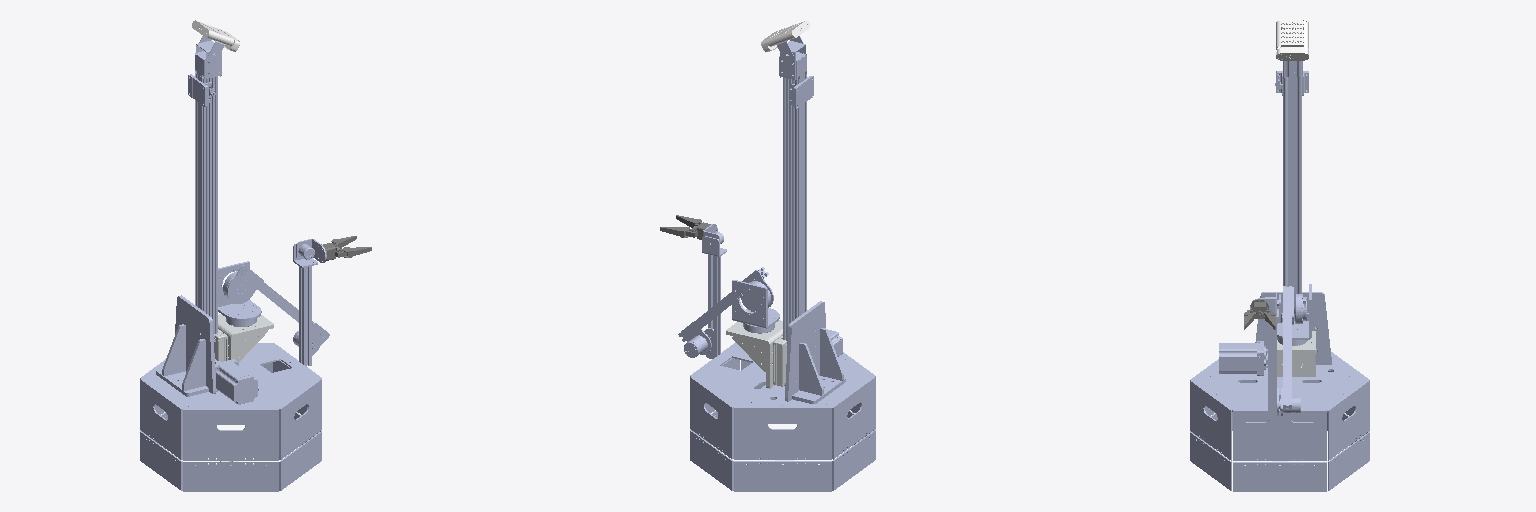
URDF robot description (xm):
<?xml version="1.0" encoding="utf-8"?>
<!-- This URDF was automatically created by SolidWorks to URDF Exporter! Originally created by [author] ([email redacted]) 
     Commit Version: 1.6.0-4-g7f85cfe  Build Version: 1.6.7995.38578
     For more information, please see http://wiki.ros.org/sw_urdf_exporter -->
<robot
  name="xm">
  <link
    name="base_footprint">
    <inertial>
      <origin
        xyz="-5.01446918828583E-18 7.77832204392716E-17 0.0125"
        rpy="0 0 0" />
      <mass
        value="0.0580821353308894" />
      <inertia
        ixx="1.59838183265745E-05"
        ixy="2.02872876666417E-21"
        ixz="4.11954387621188E-21"
        iyy="1.59838183265745E-05"
        iyz="1.27122246921669E-21"
        izz="2.5917414222848E-05" />
    </inertial>
    <visual>
      <origin
        xyz="0 0 0"
        rpy="0 0 0" />
      <geometry>
        <mesh
          filename="package://xm/meshes/base_footprint.STL" />
      </geometry>
      <material
        name="">
        <color
          rgba="1 1 1 1" />
      </material>
    </visual>
    <collision>
      <origin
        xyz="0 0 0"
        rpy="0 0 0" />
      <geometry>
        <mesh
          filename="package://xm/meshes/base_footprint.STL" />
      </geometry>
    </collision>
  </link>
  <link
    name="base_link">
    <inertial>
      <origin
        xyz="-0.0502288881046541 0.00492664264562058 0.400256816751675"
        rpy="0 0 0" />
      <mass
        value="20.0261426904633" />
      <inertia
        ixx="0.531598323022311"
        ixy="-2.21273094270985E-05"
        ixz="-0.000168492824454645"
        iyy="0.519545706931973"
        iyz="-5.41792927932619E-05"
        izz="0.0907833726166085" />
    </inertial>
    <visual>
      <origin
        xyz="0 0 0"
        rpy="0 0 0" />
      <geometry>
        <mesh
          filename="package://xm/meshes/base_link.STL" />
      </geometry>
      <material
        name="">
        <color
          rgba="0.792156862745098 0.819607843137255 0.933333333333333 1" />
      </material>
    </visual>
    <collision>
      <origin
        xyz="0 0 0"
        rpy="0 0 0" />
      <geometry>
        <mesh
          filename="package://xm/meshes/base_link.STL" />
      </geometry>
    </collision>
  </link>
  <joint
    name="Joint_base"
    type="fixed">
    <origin
      xyz="0 0 0.1072"
      rpy="0 0 0" />
    <parent
      link="base_footprint" />
    <child
      link="base_link" />
    <axis
      xyz="0 0 0" />
  </joint>
  <link
    name="camera_link">
    <inertial>
      <origin
        xyz="-0.000612844285381109 1.67576328436239E-05 0.0108070192474548"
        rpy="0 0 0" />
      <mass
        value="0.139638644702182" />
      <inertia
        ixx="0.00015555281895426"
        ixy="1.05406882620552E-07"
        ixz="5.24524898045809E-06"
        iyy="0.00017054587501445"
        iyz="-2.84754918707842E-08"
        izz="0.000297813562726458" />
    </inertial>
    <visual>
      <origin
        xyz="0 0 0"
        rpy="0 0 0" />
      <geometry>
        <mesh
          filename="package://xm/meshes/camera_link.STL" />
      </geometry>
      <material
        name="">
        <color
          rgba="1 1 1 1" />
      </material>
    </visual>
    <collision>
      <origin
        xyz="0 0 0"
        rpy="0 0 0" />
      <geometry>
        <mesh
          filename="package://xm/meshes/camera_link.STL" />
      </geometry>
    </collision>
  </link>
  <joint
    name="camera_joint"
    type="fixed">
    <origin
      xyz="-0.0373055965780228 0.0391273224499892 1.36470246732984"
      rpy="0 0.523598775598302 0" />
    <parent
      link="base_link" />
    <child
      link="camera_link" />
    <axis
      xyz="0 0 0" />
  </joint>
  <link
    name="lift_link">
    <inertial>
      <origin
        xyz="0.0166881585763502 -2.14483490747763E-05 -0.017388941776597"
        rpy="0 0 0" />
      <mass
        value="2.62357037094402" />
      <inertia
        ixx="0.00900095290508912"
        ixy="-4.07456110162792E-07"
        ixz="0.00197504590341094"
        iyy="0.00823577637027449"
        iyz="-2.56234743657449E-09"
        izz="0.00769626318722966" />
    </inertial>
    <visual>
      <origin
        xyz="0 0 0"
        rpy="0 0 0" />
      <geometry>
        <mesh
          filename="package://xm/meshes/lift_link.STL" />
      </geometry>
      <material
        name="">
        <color
          rgba="0.898039215686275 0.917647058823529 0.929411764705882 1" />
      </material>
    </visual>
    <collision>
      <origin
        xyz="0 0 0"
        rpy="0 0 0" />
      <geometry>
        <mesh
          filename="package://xm/meshes/lift_link.STL" />
      </geometry>
    </collision>
  </link>
  <joint
    name="lift_joint"
    type="prismatic">
    <origin
      xyz="-0.019992 0.04 0.6925"
      rpy="3.1416 0 0" />
    <parent
      link="base_link" />
    <child
      link="lift_link" />
    <axis
      xyz="0 0 1" />
    <limit
      lower="0.3"
      upper="0.5"
      effort="5"
      velocity="5" />
    <safety_controller
      soft_upper_limit="0.475"
      soft_lower_limit="0.29"
      k_position="4"
      k_velocity="4" />
  </joint>
  <link
    name="arm_link_0">
    <inertial>
      <origin
        xyz="2.46317414215047E-05 0.0195657468292649 0.0122309141982322"
        rpy="0 0 0" />
      <mass
        value="0.700406169082528" />
      <inertia
        ixx="0.00177795145639511"
        ixy="3.92262478514961E-07"
        ixz="-3.77926981561976E-08"
        iyy="0.00176018521561224"
        iyz="-0.000454649584082416"
        izz="0.00155125228070842" />
    </inertial>
    <visual>
      <origin
        xyz="0 0 0"
        rpy="0 0 0" />
      <geometry>
        <mesh
          filename="package://xm/meshes/arm_link_0.STL" />
      </geometry>
      <material
        name="">
        <color
          rgba="0.792156862745098 0.819607843137255 0.933333333333333 1" />
      </material>
    </visual>
    <collision>
      <origin
        xyz="0 0 0"
        rpy="0 0 0" />
      <geometry>
        <mesh
          filename="package://xm/meshes/arm_link_0.STL" />
      </geometry>
    </collision>
  </link>
  <joint
    name="arm_joint_0"
    type="revolute">
    <origin
      xyz="0.08 0 -0.117"
      rpy="3.1416 0 0" />
    <parent
      link="lift_link" />
    <child
      link="arm_link_0" />
    <axis
      xyz="0 0 1" />
    <limit
      lower="-3"
      upper="3"
      effort="2"
      velocity="2" />
    <safety_controller
      soft_upper_limit="2"
      soft_lower_limit="-2"
      k_position="1.5"
      k_velocity="1.5" />
  </joint>
  <link
    name="arm_link_1">
    <inertial>
      <origin
        xyz="0.11357855887533 -0.0307583858752969 -0.00723932673954609"
        rpy="0 0 0" />
      <mass
        value="1.04711017753295" />
      <inertia
        ixx="0.000419724679945266"
        ixy="1.02891734000369E-08"
        ixz="1.77496710937549E-09"
        iyy="0.00892584851630062"
        iyz="5.52219130323657E-08"
        izz="0.00922009483483791" />
    </inertial>
    <visual>
      <origin
        xyz="0 0 0"
        rpy="0 0 0" />
      <geometry>
        <mesh
          filename="package://xm/meshes/arm_link_1.STL" />
      </geometry>
      <material
        name="">
        <color
          rgba="0.792156862745098 0.819607843137255 0.933333333333333 1" />
      </material>
    </visual>
    <collision>
      <origin
        xyz="0 0 0"
        rpy="0 0 0" />
      <geometry>
        <mesh
          filename="package://xm/meshes/arm_link_1.STL" />
      </geometry>
    </collision>
  </link>
  <joint
    name="arm_joint_1"
    type="revolute">
    <origin
      xyz="0 -0.002 0.072"
      rpy="-1.5708 0.7854 0" />
    <parent
      link="arm_link_0" />
    <child
      link="arm_link_1" />
    <axis
      xyz="0 0 -1" />
    <limit
      lower="-5"
      upper="5"
      effort="2"
      velocity="2" />
    <safety_controller
      soft_upper_limit="4.9"
      soft_lower_limit="-4.9"
      k_position="1.5"
      k_velocity="1.5" />
  </joint>
  <link
    name="arm_link_2">
    <inertial>
      <origin
        xyz="0.130024535963095 0.0288847054378977 0.0260630438444674"
        rpy="0 0 0" />
      <mass
        value="0.719962399701144" />
      <inertia
        ixx="0.000172821037197512"
        ixy="-7.56882870332919E-08"
        ixz="1.63590335545653E-05"
        iyy="0.00555124132257089"
        iyz="-6.46361346391329E-10"
        izz="0.00557744418702608" />
    </inertial>
    <visual>
      <origin
        xyz="0 0 0"
        rpy="0 0 0" />
      <geometry>
        <mesh
          filename="package://xm/meshes/arm_link_2.STL" />
      </geometry>
      <material
        name="">
        <color
          rgba="0.792156862745098 0.819607843137255 0.933333333333333 1" />
      </material>
    </visual>
    <collision>
      <origin
        xyz="0 0 0"
        rpy="0 0 0" />
      <geometry>
        <mesh
          filename="package://xm/meshes/arm_link_2.STL" />
      </geometry>
    </collision>
  </link>
  <joint
    name="arm_joint_2"
    type="revolute">
    <origin
      xyz="0.32189 0.00245 -0.03"
      rpy="3.1416 0 -2.3562" />
    <parent
      link="arm_link_1" />
    <child
      link="arm_link_2" />
    <axis
      xyz="0 0 -1" />
    <limit
      lower="-3"
      upper="3"
      effort="2"
      velocity="2" />
    <safety_controller
      soft_upper_limit="2.9"
      soft_lower_limit="-2.9"
      k_position="1.5"
      k_velocity="1.5" />
  </joint>
  <link
    name="arm_link_3">
    <inertial>
      <origin
        xyz="8.04523406672253E-06 -0.0184782880713138 0.0361794070028583"
        rpy="0 0 0" />
      <mass
        value="0.113501424814047" />
      <inertia
        ixx="9.17739135098501E-05"
        ixy="1.51202654707806E-08"
        ixz="3.15511559624947E-10"
        iyy="9.32555824436246E-05"
        iyz="2.28682095906576E-05"
        izz="6.1719514617774E-05" />
    </inertial>
    <visual>
      <origin
        xyz="0 0 0"
        rpy="0 0 0" />
      <geometry>
        <mesh
          filename="package://xm/meshes/arm_link_3.STL" />
      </geometry>
      <material
        name="">
        <color
          rgba="0.792156862745098 0.819607843137255 0.933333333333333 1" />
      </material>
    </visual>
    <collision>
      <origin
        xyz="0 0 0"
        rpy="0 0 0" />
      <geometry>
        <mesh
          filename="package://xm/meshes/arm_link_3.STL" />
      </geometry>
    </collision>
  </link>
  <joint
    name="arm_joint_3"
    type="revolute">
    <origin
      xyz="0.34 0.03235 0.0059903"
      rpy="0 0 0" />
    <parent
      link="arm_link_2" />
    <child
      link="arm_link_3" />
    <axis
      xyz="0 0 -1" />
    <limit
      lower="-3"
      upper="3"
      effort="2"
      velocity="2" />
    <safety_controller
      soft_upper_limit="2.9"
      soft_lower_limit="-2.9"
      k_position="1.5"
      k_velocity="1.5" />
  </joint>
  <link
    name="gripper_link">
    <inertial>
      <origin
        xyz="0.161075650514826 -0.916740832808482 0.791318965165868"
        rpy="0 0 0" />
      <mass
        value="0.147715563059771" />
      <inertia
        ixx="4.0635164434296E-05"
        ixy="1.10279571317502E-07"
        ixz="2.6238503917445E-06"
        iyy="4.93235882725405E-05"
        iyz="7.42276332579736E-06"
        izz="4.45597928284743E-05" />
    </inertial>
    <visual>
      <origin
        xyz="0 0 0"
        rpy="0 0 0" />
      <geometry>
        <mesh
          filename="package://xm/meshes/gripper_link.STL" />
      </geometry>
      <material
        name="">
        <color
          rgba="0.564705882352941 0.564705882352941 0.564705882352941 1" />
      </material>
    </visual>
    <collision>
      <origin
        xyz="0 0 0"
        rpy="0 0 0" />
      <geometry>
        <mesh
          filename="package://xm/meshes/gripper_link.STL" />
      </geometry>
    </collision>
  </link>
  <joint
    name="gripper_joint"
    type="fixed">
    <origin
      xyz="-0.23572 0.75474 -0.78664"
      rpy="-0.80272 -0.92919 1.7661" />
    <parent
      link="arm_link_3" />
    <child
      link="gripper_link" />
    <axis
      xyz="0 0 0" />
  </joint>
</robot>

--- Facts derived from the render (not from the file) ---
The picture shows the robot from 3 angles, left to right: view 1: azimuth 30°, elevation 25°; view 2: azimuth 150°, elevation 25°; view 3: azimuth 270°, elevation 25°; orthographic projection.
Robot: xm — 9 links, 8 joints (4 revolute, 1 prismatic, 3 fixed); root link base_footprint; default pose: all joints at 0 but 1 set to mid-range because 0 is outside their limits (lift_joint = 0.4).
Visible links, largest first — view 1: base_link, arm_link_1, lift_link, arm_link_2, arm_link_0, gripper_link, camera_link, arm_link_3; view 2: base_link, lift_link, arm_link_2, arm_link_1, arm_link_0, camera_link, gripper_link; view 3: base_link, arm_link_1, camera_link, arm_link_2, lift_link, arm_link_0, gripper_link.
Link boxes in pixels (x1,y1,x2,y2): base_link: (140,36,321,491); arm_link_1: (223,265,329,353); lift_link: (214,314,273,362); arm_link_2: (293,244,318,366); arm_link_0: (218,261,261,326); gripper_link: (321,236,371,260); camera_link: (192,20,239,51); arm_link_3: (296,239,326,262); base_link: (690,36,875,491); lift_link: (726,320,786,388); arm_link_2: (684,236,726,358); arm_link_1: (678,267,773,354); arm_link_0: (732,280,779,333); camera_link: (761,20,809,52); gripper_link: (660,215,710,239); base_link: (1190,61,1369,491); arm_link_1: (1281,286,1306,416); camera_link: (1276,20,1308,60); arm_link_2: (1268,294,1300,416); lift_link: (1277,331,1315,376); arm_link_0: (1277,284,1311,345); gripper_link: (1244,299,1275,329).
Size in the robot's own frame: 0.694 by 0.5679 by 1.53 metres.
9 mesh visuals loaded from 9 distinct referenced files (9 binary STL).
